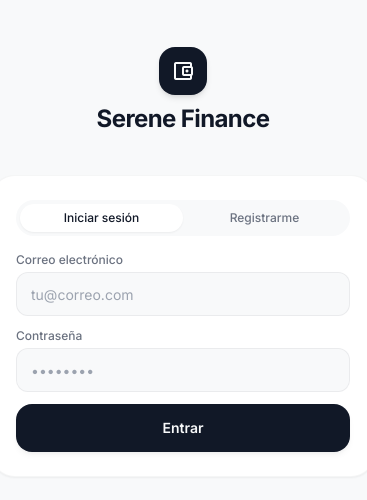
Scenario: AuthScreen › muestra el mensaje de error devuelto por el servicio
Type "danilo@test.com" into the field with placeholder "tu@correo.com" at {"x": 183, "y": 294}, box left=16, top=272, right=350, bottom=316
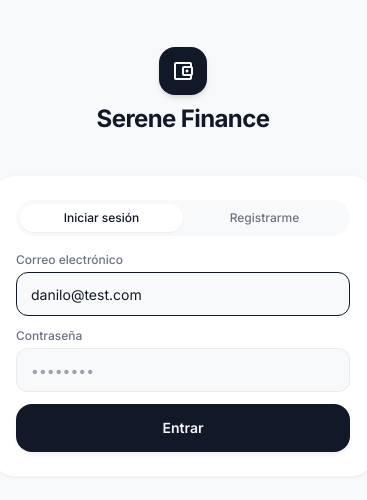
Type "secreto" into the password field with placeholder "••••••••" at {"x": 183, "y": 370}, box left=16, top=348, right=350, bottom=392
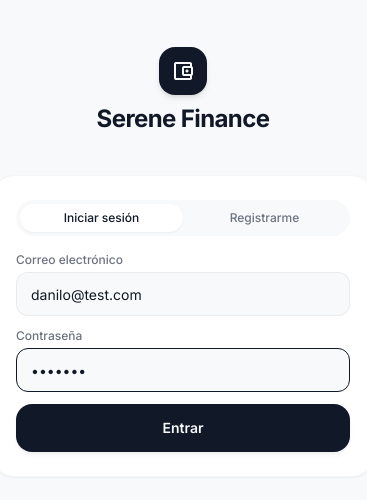
Click the button "Entrar" at {"x": 183, "y": 428}, box left=16, top=404, right=350, bottom=452
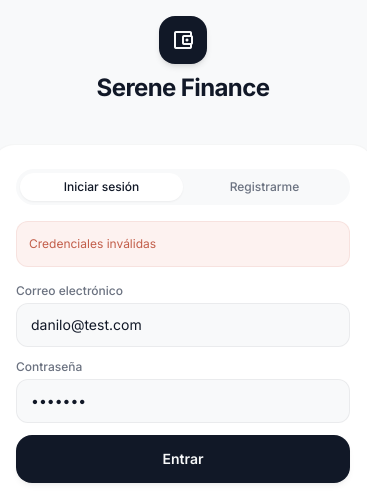
Result: the text "Credenciales inválidas" is shown at left=16, top=221, right=350, bottom=267
